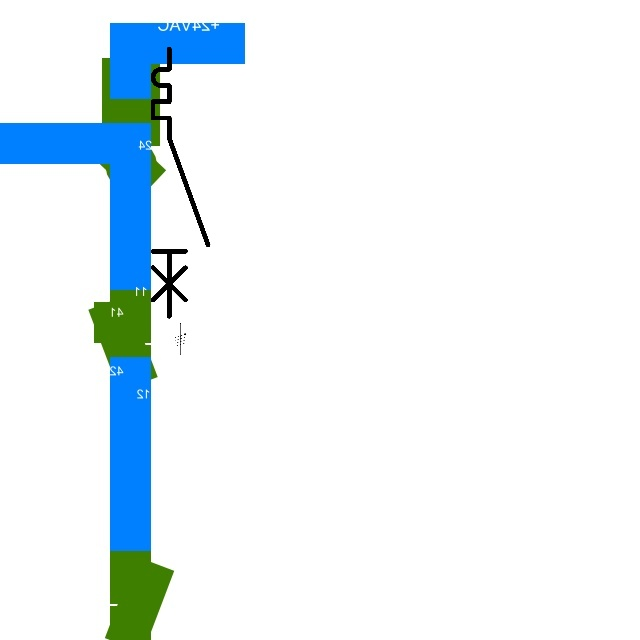interruptor_termomagnetico: (146, 42, 214, 323)
